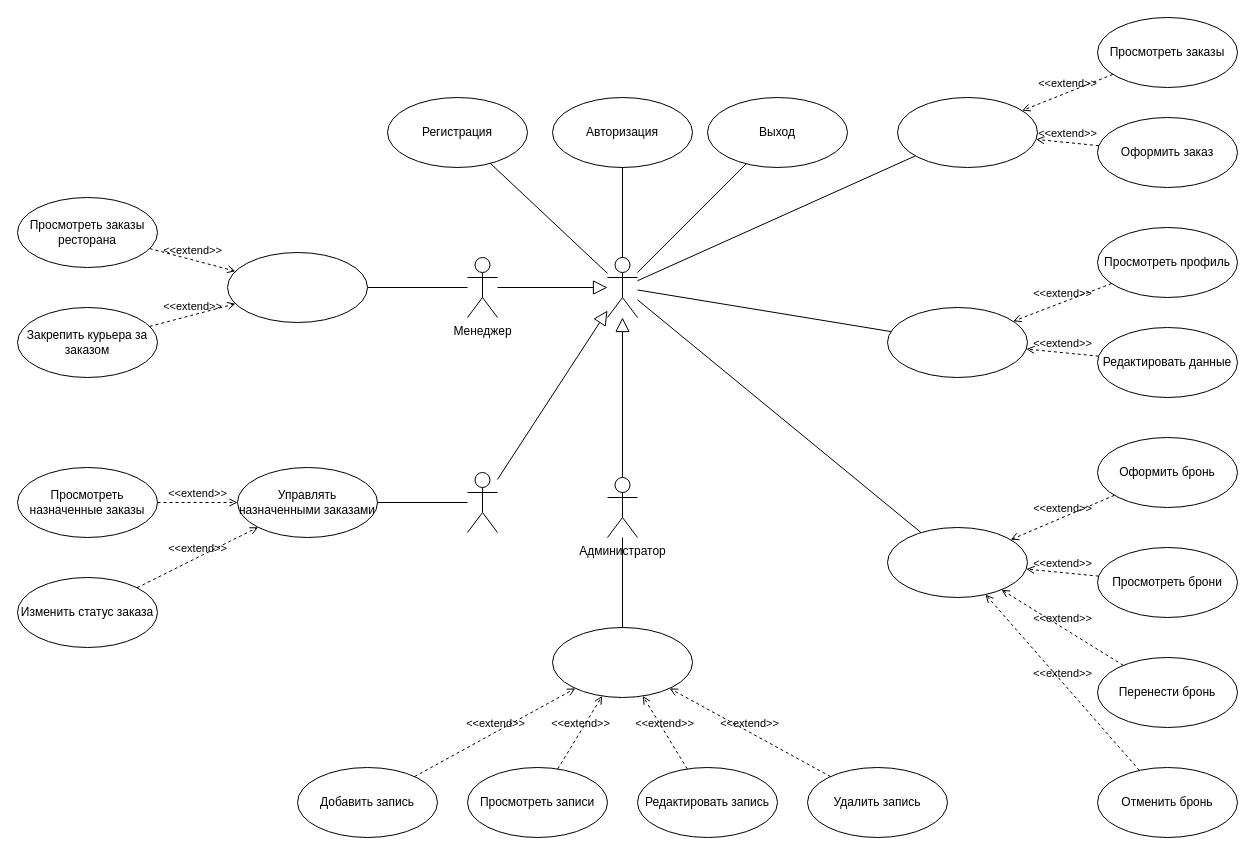
Image size: 1255x855. Some labels were removed from this diagram. Each missing label, with the centre of its shape:
Курьер: point 482,502
Пользователь: point 622,287
Управлять БД: point 622,662
Управлять заказами ресторана: point 297,287
Управлять своим профилем: point 957,342
Управлять своими бронированиями: point 957,562
Управлять своими заказами: point 967,132
